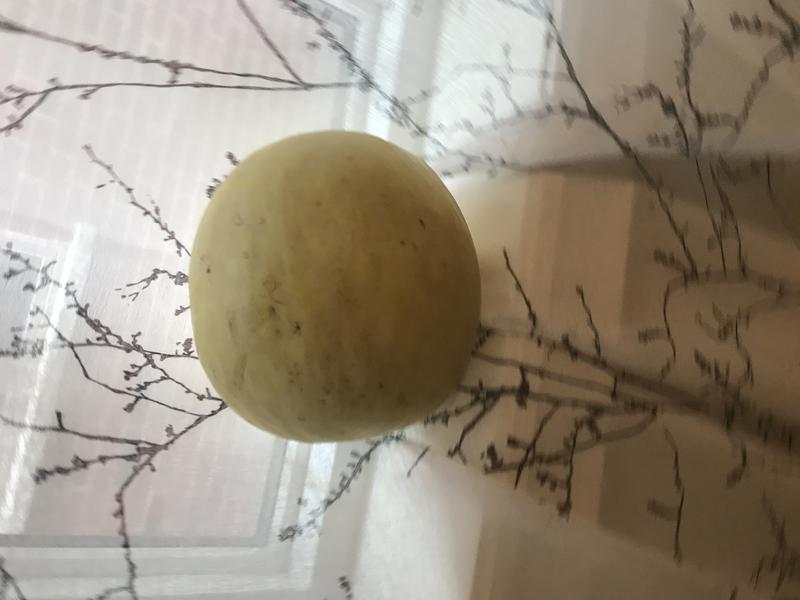honeydew: (181, 118, 485, 454)
